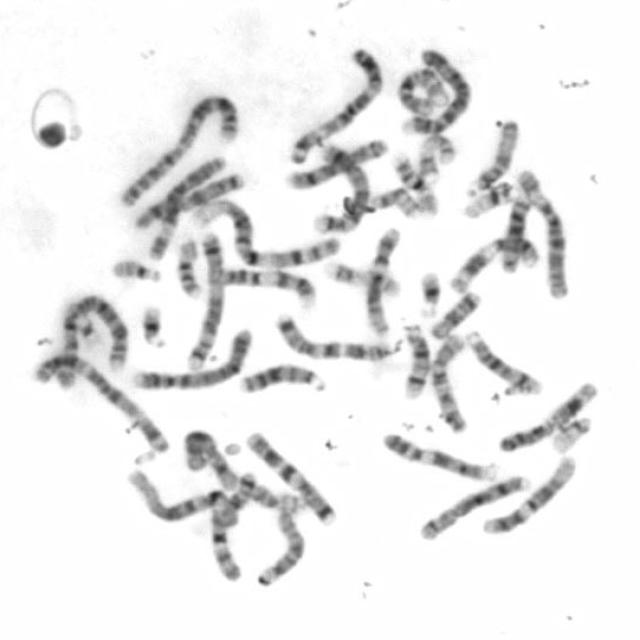A1: (123, 467, 244, 583), (188, 194, 340, 268)
A2: (114, 90, 242, 208), (48, 290, 129, 394)
A3: (28, 348, 170, 456), (283, 43, 387, 165)
B4: (126, 323, 255, 393), (395, 43, 472, 138)
B5: (181, 228, 226, 372), (309, 137, 371, 236)
C10: (426, 329, 470, 435), (394, 61, 454, 118)
C11: (500, 382, 601, 452), (444, 231, 542, 296)
C12: (478, 451, 578, 536), (359, 223, 404, 338)
C6: (142, 151, 233, 262), (512, 162, 572, 300)
C7: (240, 426, 338, 526), (271, 307, 397, 363)
C8: (414, 472, 531, 543), (282, 134, 389, 192)
C9: (376, 428, 496, 483), (213, 263, 319, 310)
D13: (234, 359, 329, 396), (497, 190, 533, 273)
D14: (462, 326, 544, 396), (398, 319, 431, 402)
D15: (461, 115, 522, 198), (250, 504, 304, 594)
E16: (389, 148, 440, 218), (172, 232, 204, 298)
E17: (321, 258, 402, 298), (413, 130, 458, 179)
E18: (426, 287, 481, 340), (222, 469, 258, 515)
F19: (459, 175, 516, 221)
F20: (251, 484, 312, 516), (375, 184, 422, 221)
G21: (136, 300, 168, 350), (415, 266, 444, 319)
G22: (545, 411, 595, 454), (108, 255, 163, 285)
X: (129, 169, 247, 231), (179, 425, 240, 491)
